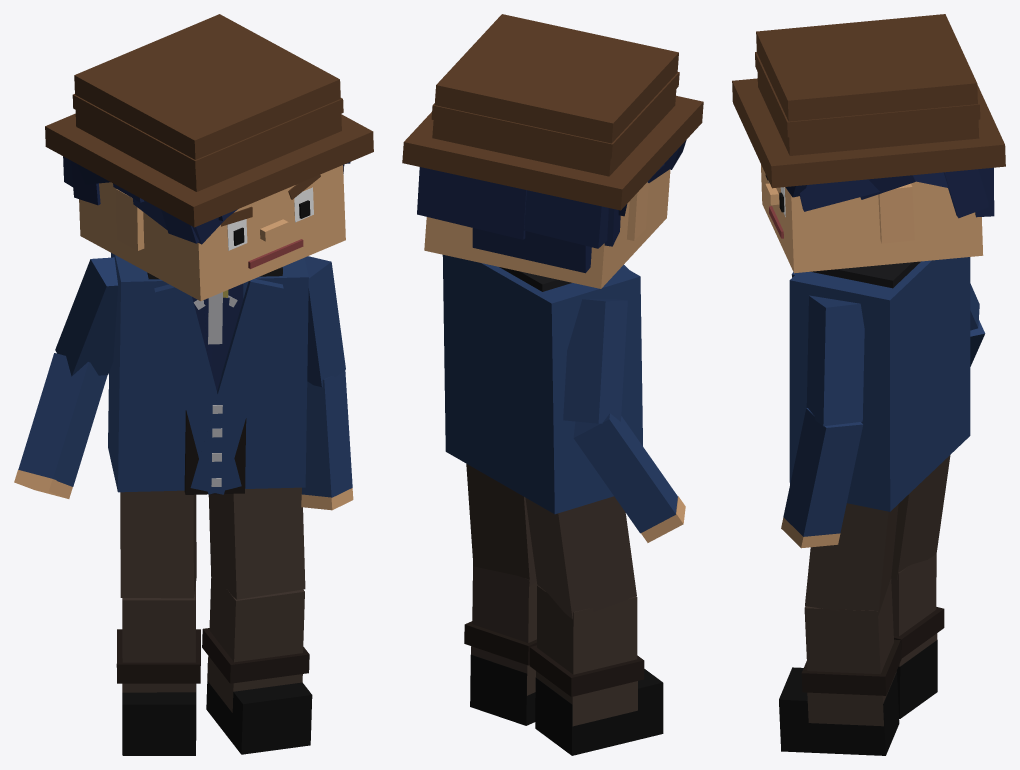
Rendered from Secret_agent.obj.
3 views of the same model, side by side, from view 1: azimuth 30°, elevation 25°; view 2: azimuth 150°, elevation 25°; view 3: azimuth 270°, elevation 25° (orthographic).
Visible parts, largest first — view 1: Cube.004, ROOTTRANSFORM_Cube.002, HEAD_Cube, Cube.003, leftlegupper_Cube.063, right_leg_upper_Cube.068, Cube.026_Cube.034, rightarm.lower.001_Cube.061, leftleglower_Cube.064, Cube.042_Cube.067, Cube.025_Cube.041, leftarm.lower_Cube.058 (+17 smaller); view 2: ROOTTRANSFORM_Cube.002, Cube.004, Cube.003, right_leg_upper_Cube.068, rightarm.upper.001_Cube.060, rightarm.lower.001_Cube.061, HEAD_Cube, right_leg_lower_Cube.069, leftlegupper_Cube.063, Cube.047_Cube.072, Cube.012, leftleglower_Cube.064 (+11 smaller); view 3: ROOTTRANSFORM_Cube.002, Cube.004, HEAD_Cube, Cube.003, leftlegupper_Cube.063, leftarm.upper_Cube.057, leftarm.lower_Cube.058, leftleglower_Cube.064, Cube.042_Cube.067, right_leg_upper_Cube.068, Cube.001, right_leg_lower_Cube.069 (+11 smaller).
Part boxes in pixels (left/top/right/bottom): Cube.004: left=74, top=14, right=341, bottom=191; ROOTTRANSFORM_Cube.002: left=108, top=253, right=308, bottom=492; HEAD_Cube: left=79, top=165, right=345, bottom=301; Cube.003: left=45, top=113, right=373, bottom=227; leftlegupper_Cube.063: left=208, top=487, right=305, bottom=599; right_leg_upper_Cube.068: left=120, top=490, right=196, bottom=598; Cube.026_Cube.034: left=190, top=278, right=283, bottom=494; rightarm.lower.001_Cube.061: left=18, top=353, right=107, bottom=486; leftleglower_Cube.064: left=209, top=577, right=304, bottom=662; Cube.042_Cube.067: left=206, top=663, right=312, bottom=754; Cube.025_Cube.041: left=154, top=284, right=241, bottom=494; leftarm.lower_Cube.058: left=302, top=370, right=352, bottom=497; ROOTTRANSFORM_Cube.002: left=442, top=255, right=642, bottom=514; Cube.004: left=432, top=14, right=678, bottom=176; Cube.003: left=402, top=95, right=703, bottom=210; right_leg_upper_Cube.068: left=525, top=496, right=636, bottom=619; rightarm.upper.001_Cube.060: left=563, top=299, right=627, bottom=423; rightarm.lower.001_Cube.061: left=573, top=413, right=677, bottom=533; HEAD_Cube: left=424, top=169, right=670, bottom=288; right_leg_lower_Cube.069: left=537, top=585, right=637, bottom=674; leftlegupper_Cube.063: left=466, top=464, right=536, bottom=586; Cube.047_Cube.072: left=535, top=669, right=663, bottom=755; Cube.012: left=417, top=167, right=526, bottom=239; leftleglower_Cube.064: left=472, top=563, right=537, bottom=642; ROOTTRANSFORM_Cube.002: left=789, top=257, right=970, bottom=511; Cube.004: left=756, top=14, right=979, bottom=155; HEAD_Cube: left=761, top=164, right=983, bottom=273; Cube.003: left=732, top=78, right=1005, bottom=188; leftlegupper_Cube.063: left=805, top=503, right=898, bottom=615; leftarm.upper_Cube.057: left=806, top=295, right=864, bottom=426; leftarm.lower_Cube.058: left=783, top=408, right=863, bottom=536; leftleglower_Cube.064: left=804, top=579, right=893, bottom=674; Cube.042_Cube.067: left=779, top=667, right=899, bottom=755; right_leg_upper_Cube.068: left=891, top=455, right=950, bottom=579; Cube.001: left=755, top=52, right=980, bottom=137; right_leg_lower_Cube.069: left=891, top=554, right=936, bottom=636.
Size of the model in its own units: 3.08 by 6.95 by 2.57.
